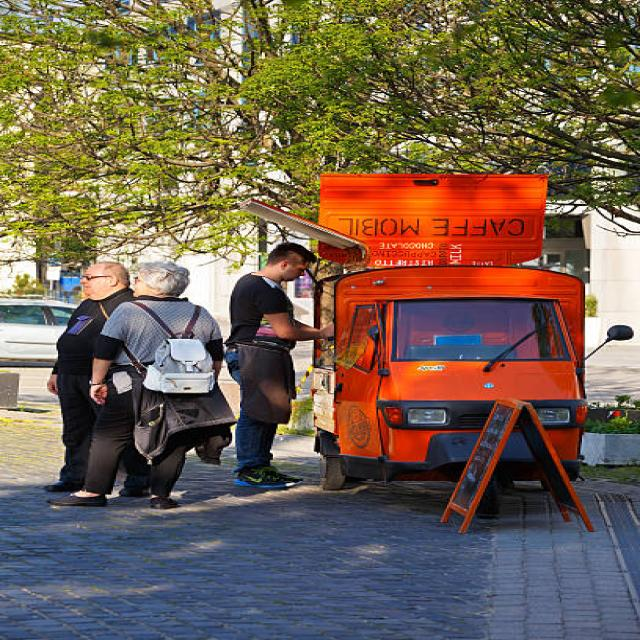Emperan: (219, 163, 616, 526)
